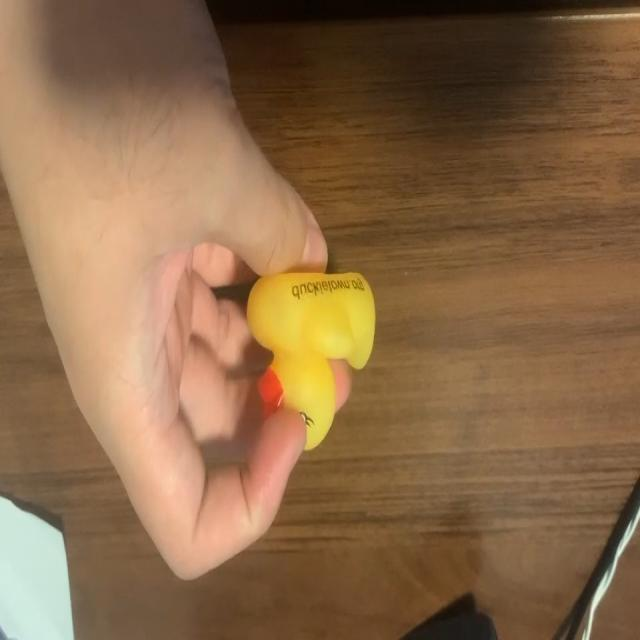rubber-duck: (246, 271, 374, 448)
